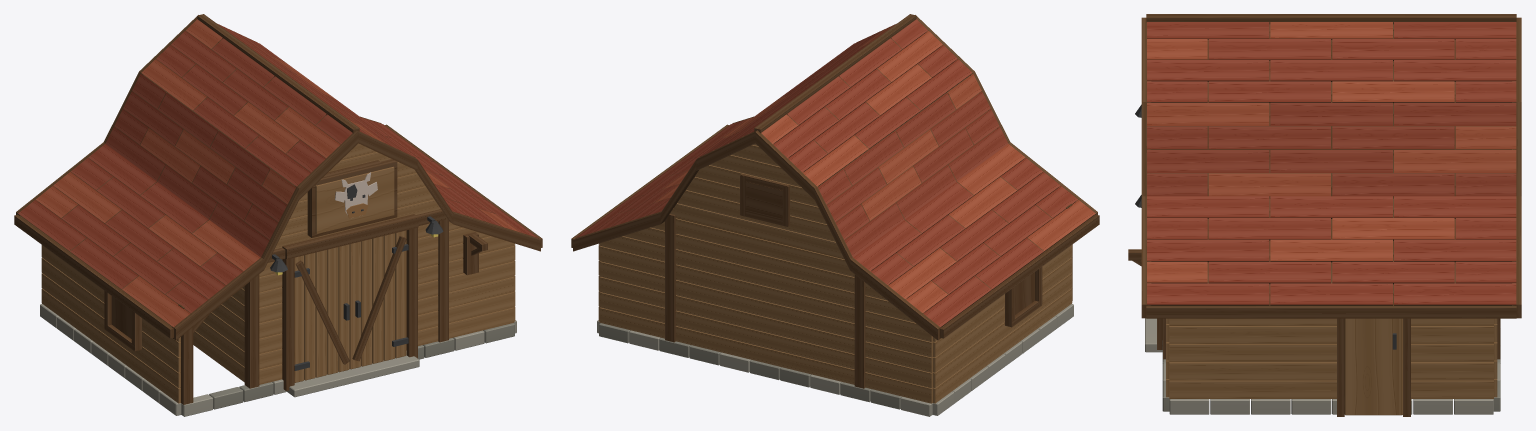
File: BarnExterior_B_High.fbx
The picture shows the model from 3 angles, left to right: view 1: azimuth 30°, elevation 25°; view 2: azimuth 150°, elevation 25°; view 3: azimuth 270°, elevation 25°; orthographic projection. The views are drawn at different scales.
Parts seen in each view (by area): view 1: BarnB_High; view 2: BarnB_High; view 3: BarnB_High.
Boxes of the visible parts, box(x1,y1,x2,y2) form: BarnB_High: box(14, 14, 542, 416); BarnB_High: box(571, 14, 1099, 416); BarnB_High: box(1128, 14, 1521, 416).
Size of the model in its own units: 7.86 by 5.1 by 6.06.
